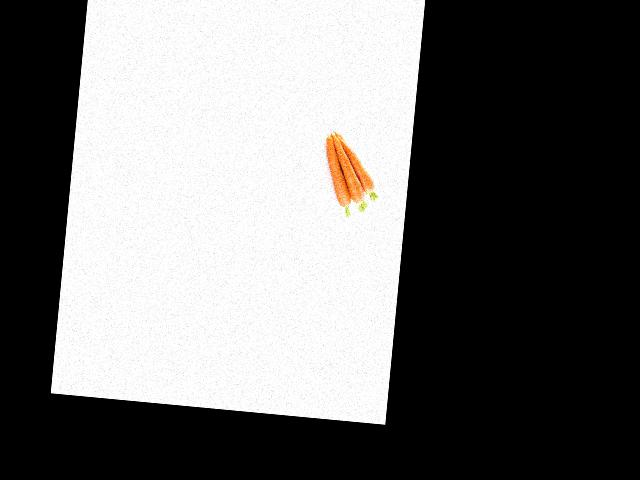carrot: (318, 136, 358, 214)
